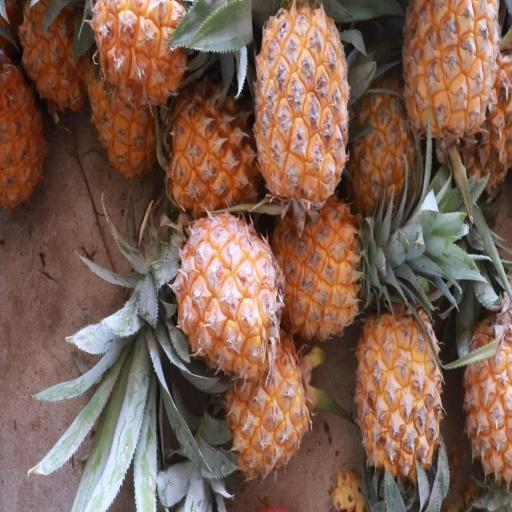Pineapple - v8 v1: (252, 1, 353, 210), (171, 208, 284, 386), (352, 264, 445, 474), (216, 318, 314, 490), (401, 0, 503, 164), (263, 175, 365, 339), (166, 77, 262, 223), (455, 273, 512, 473), (0, 45, 52, 223), (16, 0, 94, 118)
